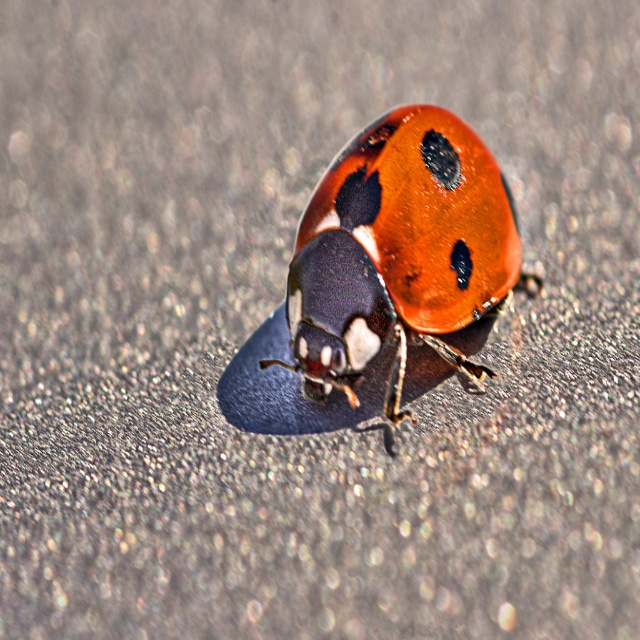Ladybug: (258, 103, 542, 424)
